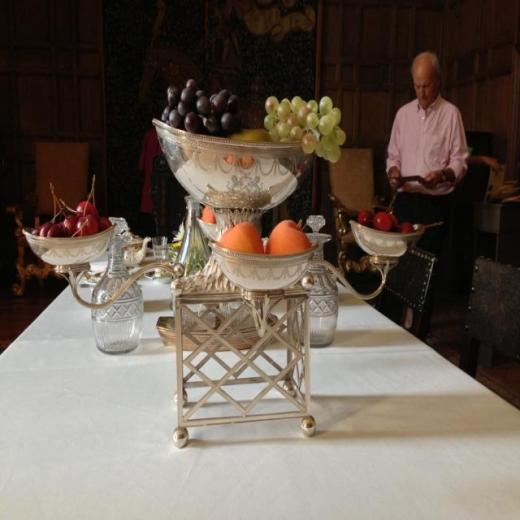Orange: (264, 98, 347, 160), (161, 78, 244, 135)
